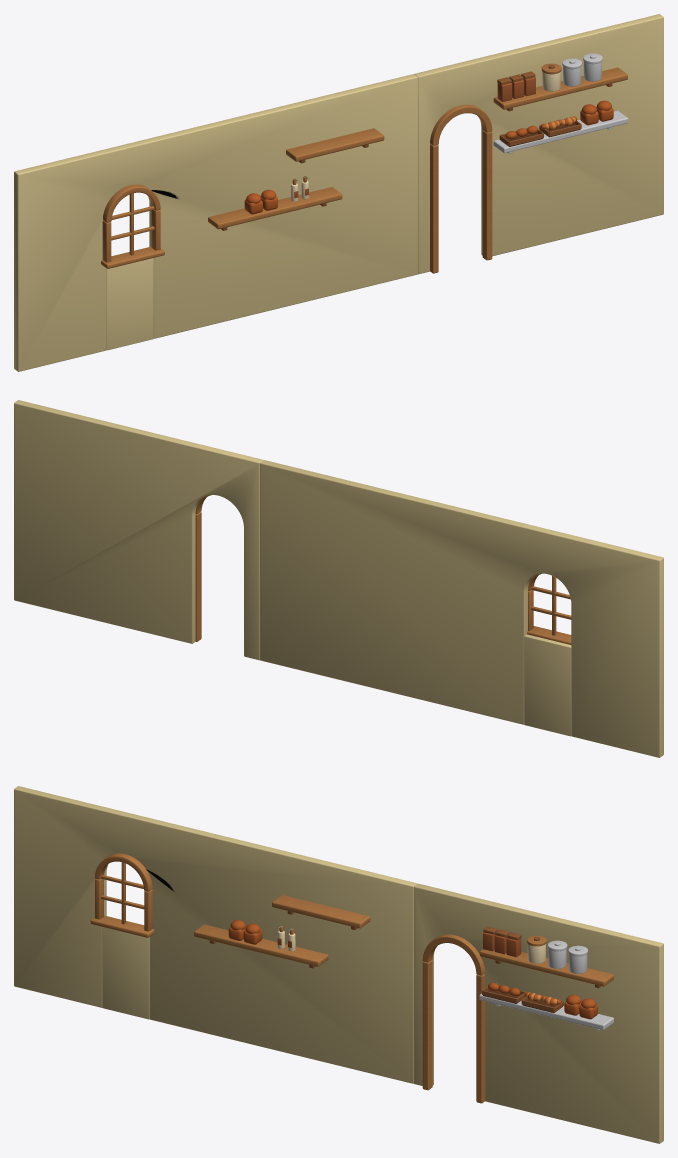
Rendered from CafeBackWall.fbx.
The picture shows the model from 3 angles, top to bottom: view 1: azimuth 30°, elevation 25°; view 2: azimuth 150°, elevation 25°; view 3: azimuth 330°, elevation 25°; orthographic projection.
Parts seen in each view (by area): view 1: 04_Right_Wall_Arched_Window_Mesh.002, 03_Back_Wall_Arched_Doorway_Mesh.001, 05_Doorway_Oak_Arch_Mesh.001, 06_Arched_Window_Frame_Mesh.002, 13_Upper_Wall_Shelf_Mesh.002, 13_Upper_Wall_Shelf_Mesh.003, 13_Upper_Wall_Shelf_Mesh.001, 18_Lower_Bakery_Shelf_Mesh.001, 14_Coffee_Kraft_Packages_Mesh.001, 21_Sandwich_Loaves_Mesh.002, 21_Sandwich_Loaves_Mesh.001, 19_Roll_Bread_Tray_Mesh.001 (+1 smaller); view 2: 04_Right_Wall_Arched_Window_Mesh.002, 03_Back_Wall_Arched_Doorway_Mesh.001, 06_Arched_Window_Frame_Mesh.002, 05_Doorway_Oak_Arch_Mesh.001; view 3: 04_Right_Wall_Arched_Window_Mesh.002, 03_Back_Wall_Arched_Doorway_Mesh.001, 05_Doorway_Oak_Arch_Mesh.001, 06_Arched_Window_Frame_Mesh.002, 13_Upper_Wall_Shelf_Mesh.002, 13_Upper_Wall_Shelf_Mesh.003, 13_Upper_Wall_Shelf_Mesh.001, 18_Lower_Bakery_Shelf_Mesh.001, 14_Coffee_Kraft_Packages_Mesh.001, 21_Sandwich_Loaves_Mesh.002, 21_Sandwich_Loaves_Mesh.001, 19_Roll_Bread_Tray_Mesh.001 (+1 smaller).
Boxes of the visible parts, x1,y1,x2,y2 form: 04_Right_Wall_Arched_Window_Mesh.002: (14, 74, 417, 371); 03_Back_Wall_Arched_Doorway_Mesh.001: (414, 14, 663, 274); 05_Doorway_Oak_Arch_Mesh.001: (430, 104, 492, 273); 06_Arched_Window_Frame_Mesh.002: (101, 184, 164, 268); 13_Upper_Wall_Shelf_Mesh.002: (208, 187, 342, 230); 13_Upper_Wall_Shelf_Mesh.003: (286, 128, 384, 163); 13_Upper_Wall_Shelf_Mesh.001: (493, 67, 627, 111); 18_Lower_Bakery_Shelf_Mesh.001: (493, 110, 628, 153); 14_Coffee_Kraft_Packages_Mesh.001: (497, 71, 535, 101); 21_Sandwich_Loaves_Mesh.002: (244, 189, 277, 214); 21_Sandwich_Loaves_Mesh.001: (580, 100, 613, 125); 19_Roll_Bread_Tray_Mesh.001: (499, 125, 543, 146); 04_Right_Wall_Arched_Window_Mesh.002: (260, 460, 663, 757); 03_Back_Wall_Arched_Doorway_Mesh.001: (14, 400, 263, 660); 06_Arched_Window_Frame_Mesh.002: (527, 573, 571, 644); 05_Doorway_Oak_Arch_Mesh.001: (195, 495, 211, 641); 04_Right_Wall_Arched_Window_Mesh.002: (14, 786, 417, 1083); 03_Back_Wall_Arched_Doorway_Mesh.001: (414, 883, 663, 1143); 05_Doorway_Oak_Arch_Mesh.001: (422, 934, 485, 1103); 06_Arched_Window_Frame_Mesh.002: (90, 853, 154, 937); 13_Upper_Wall_Shelf_Mesh.002: (194, 924, 328, 968); 13_Upper_Wall_Shelf_Mesh.003: (272, 895, 370, 929); 13_Upper_Wall_Shelf_Mesh.001: (479, 949, 613, 988); 18_Lower_Bakery_Shelf_Mesh.001: (479, 993, 613, 1030); 14_Coffee_Kraft_Packages_Mesh.001: (483, 926, 521, 957); 21_Sandwich_Loaves_Mesh.002: (228, 920, 262, 944); 21_Sandwich_Loaves_Mesh.001: (564, 994, 597, 1019); 19_Roll_Bread_Tray_Mesh.001: (482, 982, 525, 1003).
Bounding box in the file's own units: 1469 × 430 × 63.5.
